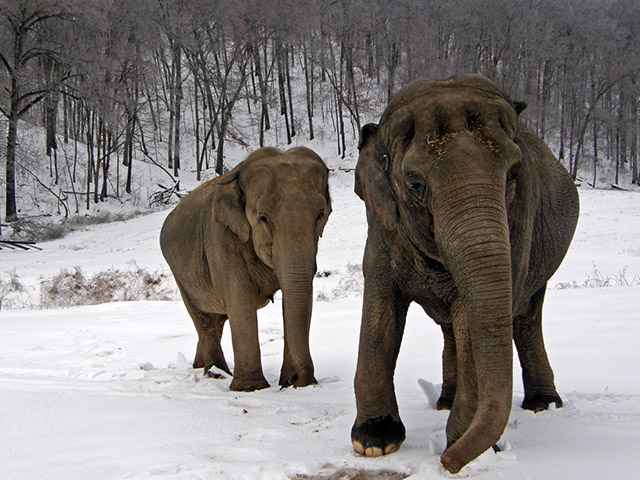elephant: (349, 70, 585, 470), (152, 140, 337, 396)
